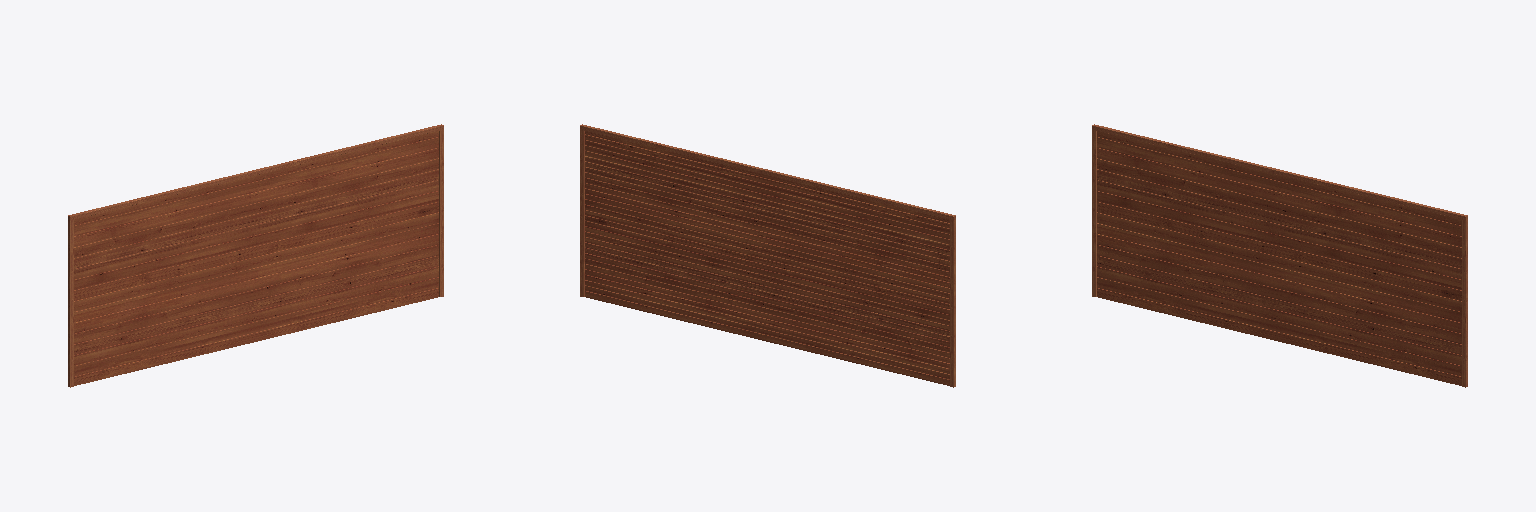
3 views of the same model, side by side, from view 1: azimuth 30°, elevation 25°; view 2: azimuth 150°, elevation 25°; view 3: azimuth 330°, elevation 25° (orthographic).
Visible parts, largest first — view 1: wall_planks, trim_top, trim_left, trim_right; view 2: wall_planks, trim_top, trim_left, trim_right; view 3: wall_planks, trim_top, trim_right, trim_left.
Boxes of the visible parts, x1,y1,x2,y2 form: wall_planks: [74, 131, 438, 385]; trim_top: [68, 124, 443, 220]; trim_left: [68, 220, 73, 387]; trim_right: [439, 130, 443, 296]; wall_planks: [585, 131, 949, 385]; trim_top: [580, 124, 955, 220]; trim_left: [950, 220, 955, 387]; trim_right: [580, 130, 584, 296]; wall_planks: [1097, 131, 1461, 385]; trim_top: [1092, 124, 1467, 220]; trim_right: [1462, 220, 1467, 387]; trim_left: [1092, 130, 1096, 296].
Size of the model in its own units: 216 by 94.5 by 1.82.
Materials: 2 (2 with a texture image).